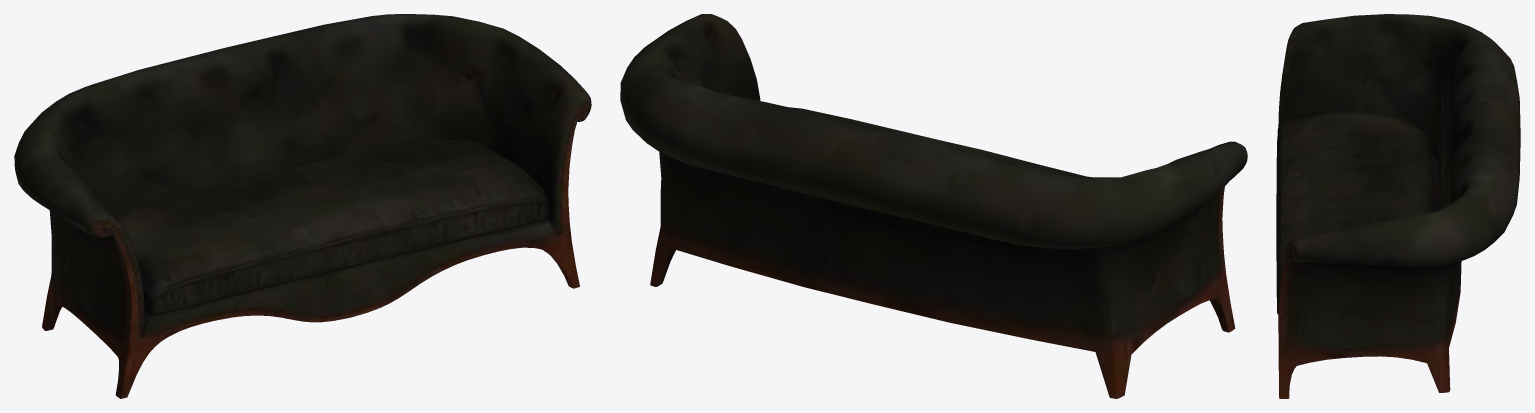
Rendered from sofa.glb.
3 views of the same model, side by side, from view 1: azimuth 30°, elevation 25°; view 2: azimuth 150°, elevation 25°; view 3: azimuth 270°, elevation 25° (orthographic). The views are drawn at different scales.
Parts seen in each view (by area): view 1: sofa_02_Base, sofa_02_Seat; view 2: sofa_02_Base, sofa_02_Seat; view 3: sofa_02_Base, sofa_02_Seat.
Part boxes in pixels (x1,y1,x2,y2): sofa_02_Base: (14,14,591,398); sofa_02_Seat: (115,139,549,314); sofa_02_Base: (620,14,1247,398); sofa_02_Seat: (789,107,1086,176); sofa_02_Base: (1278,14,1520,398); sofa_02_Seat: (1276,112,1433,314).
Bounding box in the file's own units: 1.81 × 0.7095 × 0.8178.
Materials: 1 (1 with a texture image).
